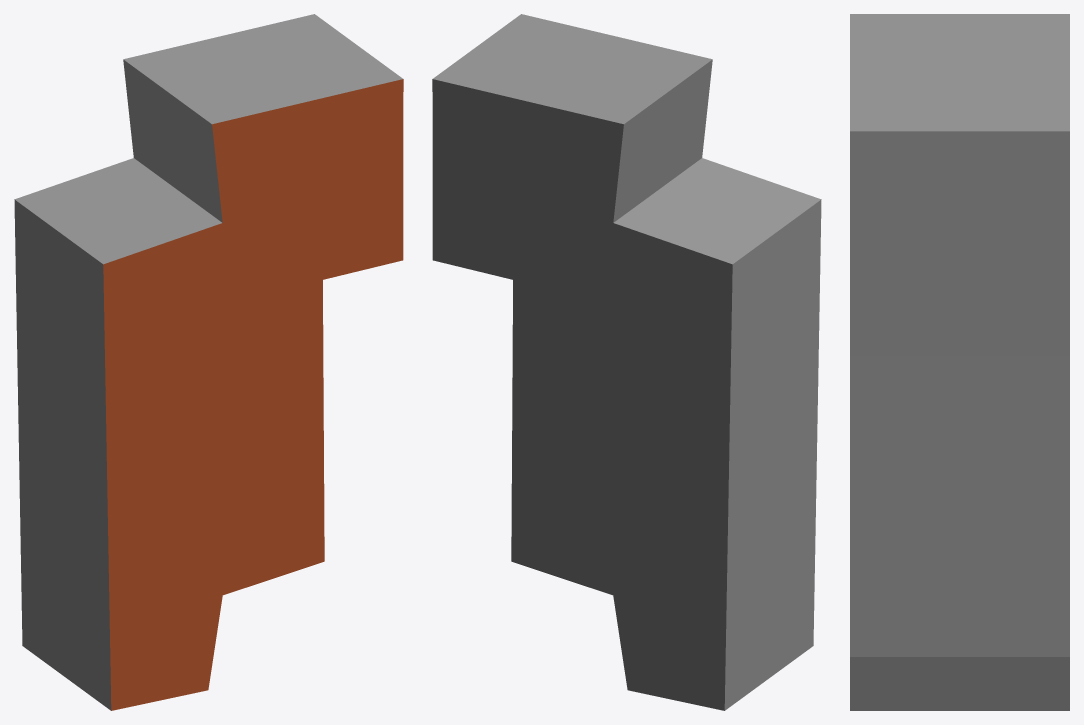
The model's file is construction_2965_assumed_A_Casa_h6m.obj.
3 renders of one model, left to right at view 1: azimuth 30°, elevation 25°; view 2: azimuth 150°, elevation 25°; view 3: azimuth 270°, elevation 25°, orthographic. The views are drawn at different scales.
Visible parts, largest first — view 1: construction_2965_assumed_A_Casa; view 2: construction_2965_assumed_A_Casa; view 3: construction_2965_assumed_A_Casa.
Boxes of the visible parts, x1,y1,x2,y2 form: construction_2965_assumed_A_Casa: (14,14,403,710); construction_2965_assumed_A_Casa: (432,14,821,710); construction_2965_assumed_A_Casa: (850,14,1069,710).
Bounding box in the file's own units: 11.71 × 21.06 × 6.
